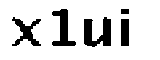1: (49, 7, 77, 51)
i: (119, 5, 138, 53)
u: (81, 17, 114, 52)
x: (6, 16, 43, 49)
